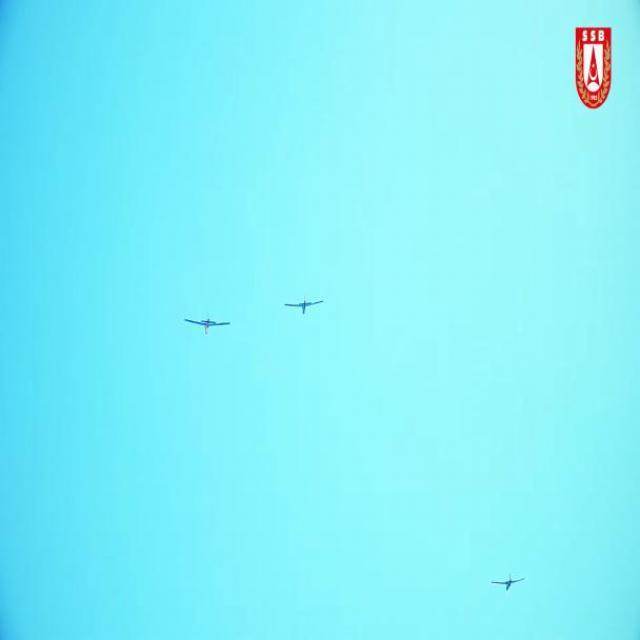iha: (182, 310, 238, 331)
